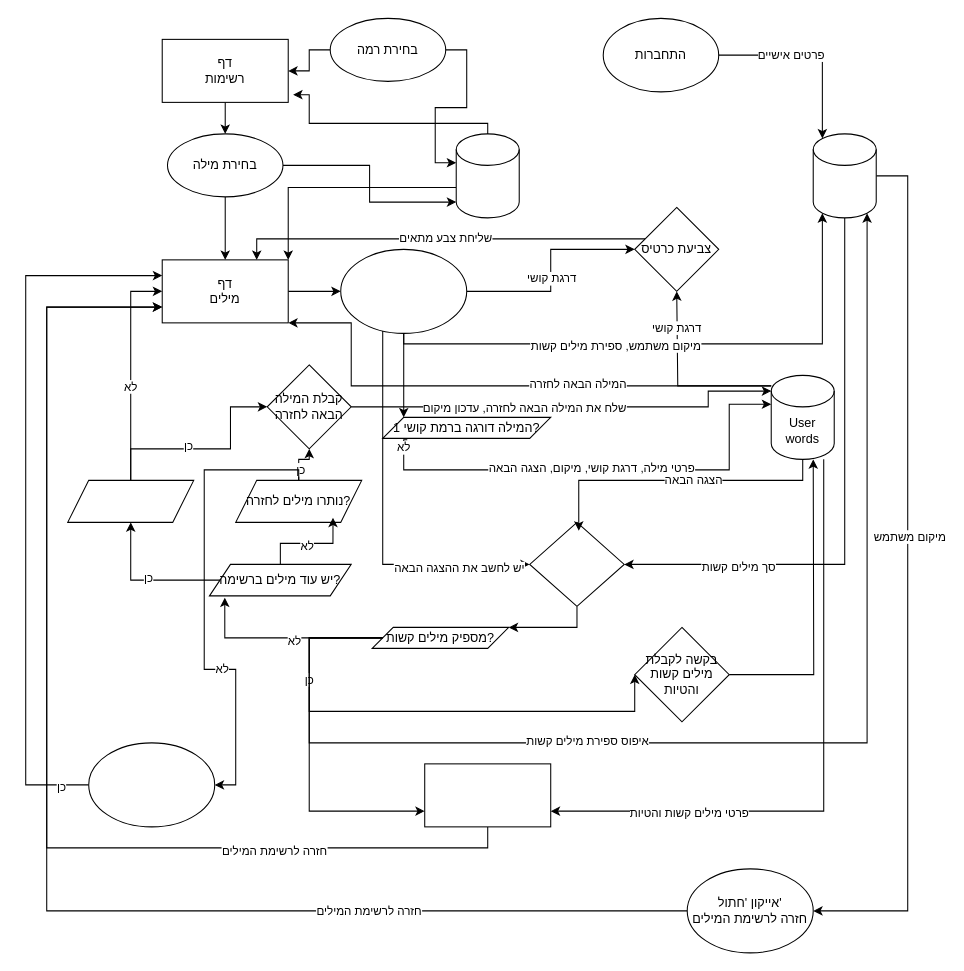
The diagram is 964 pixels wide and 971 high, and some of its shapes have lost their labels. Here are the shapes that lost their labels. From the top down, the box of each, then its label:
(455, 133, 519, 218): Mongo DB
(812, 133, 876, 218): Users
(340, 248, 467, 333): בחירת דרגת קושי
(67, 479, 194, 522): יש מילה שזמן החזרה שלה הגיע?
(529, 521, 624, 606): חישוב ההצגה הבאה
(88, 742, 215, 827): תרצה להמשיך לרשימה הבאה?
(424, 763, 551, 827): דף חזרה והטמעה
